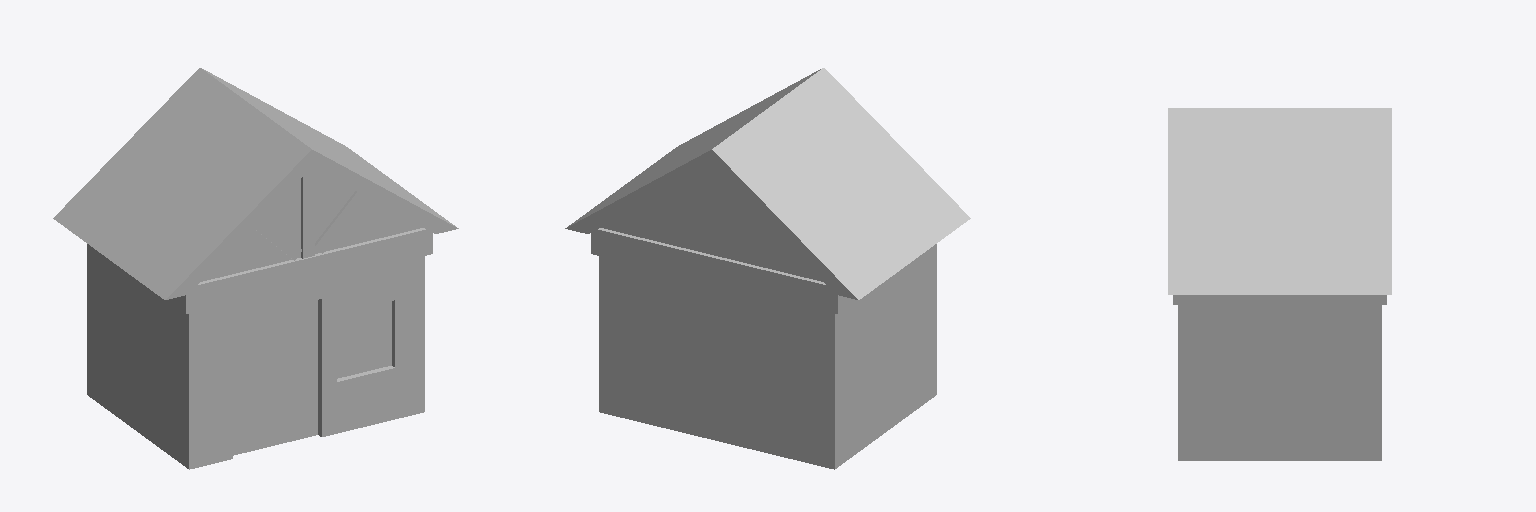
Rendered from Twinleaf Town - Small house.obj.
3 renders of one model, left to right at view 1: azimuth 30°, elevation 25°; view 2: azimuth 150°, elevation 25°; view 3: azimuth 270°, elevation 25°, orthographic.
Parts seen in each view (by area): view 1: BaseHouse, Roof, Door, Wood2, Wood3, Wood1; view 2: BaseHouse, Roof; view 3: Roof, BaseHouse.
Part boxes in pixels (x1,y1,x2,y2): BaseHouse: (87,169,432,469); Roof: (53,68,458,299); Door: (233,300,317,455); Wood2: (301,168,314,258); Wood3: (315,191,366,253); Wood1: (254,218,301,260); BaseHouse: (591,168,936,469); Roof: (565,68,970,299); Roof: (1168,108,1391,294); BaseHouse: (1173,295,1386,460).
Bounding box in the file's own units: 4.99 × 4.79 × 3.3.